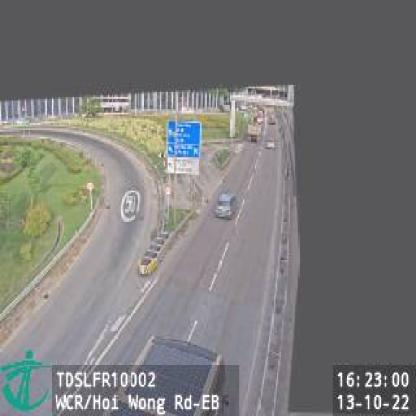Car: (216, 190, 237, 218), (264, 138, 274, 149)
Truck: (247, 116, 261, 142)
